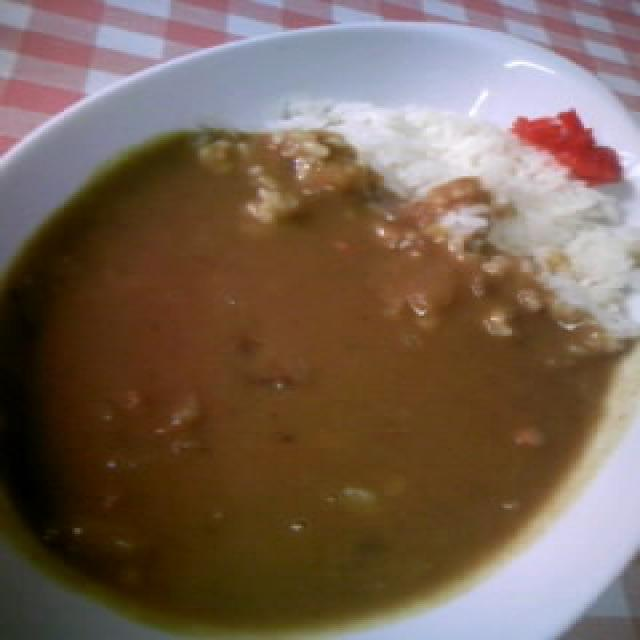牛肉菜式: (0, 20, 640, 640)
